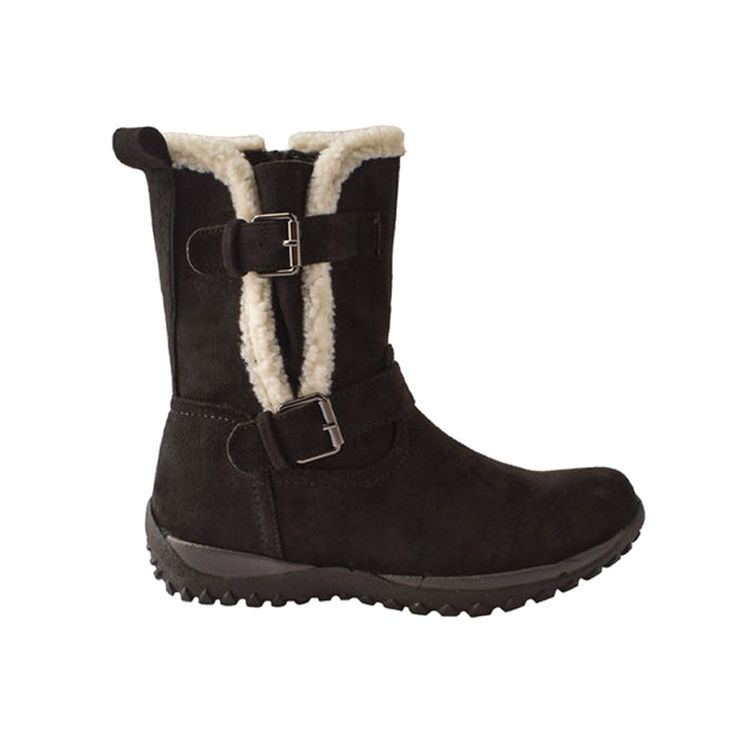gamuza: (112, 127, 640, 578)
